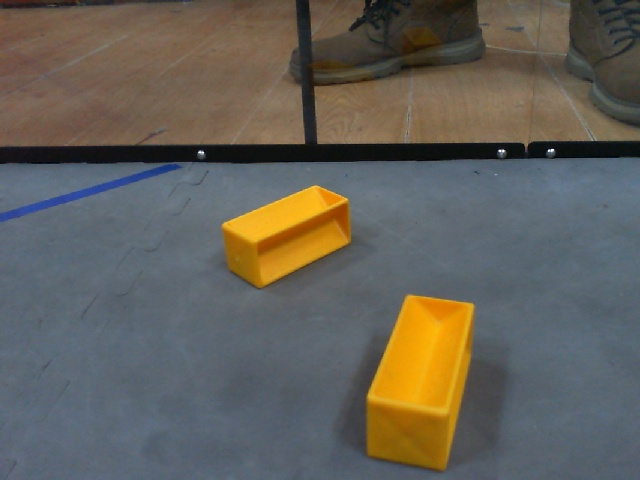YellowSample: (358, 289, 477, 472), (216, 183, 355, 291)
